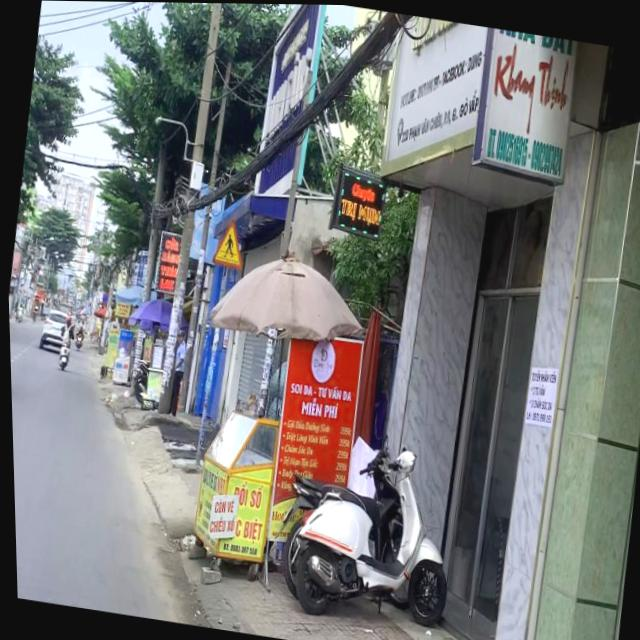Nguoi di bo cat ngang: (207, 214, 247, 271)
